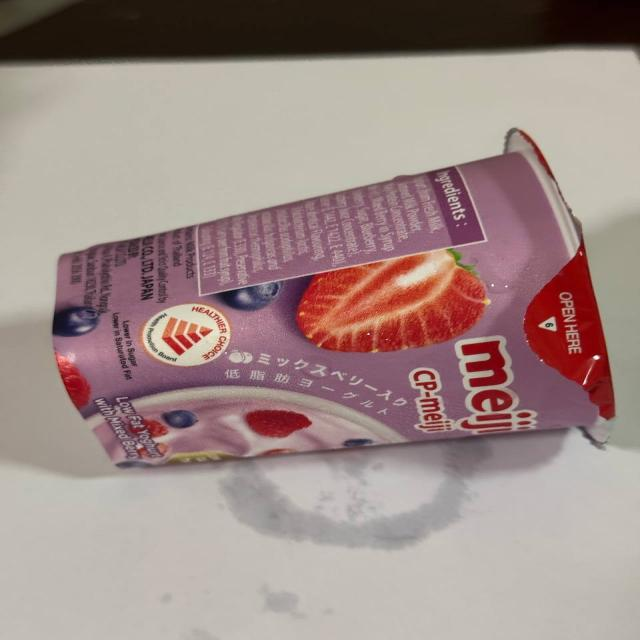yogurt: (42, 118, 622, 472)
